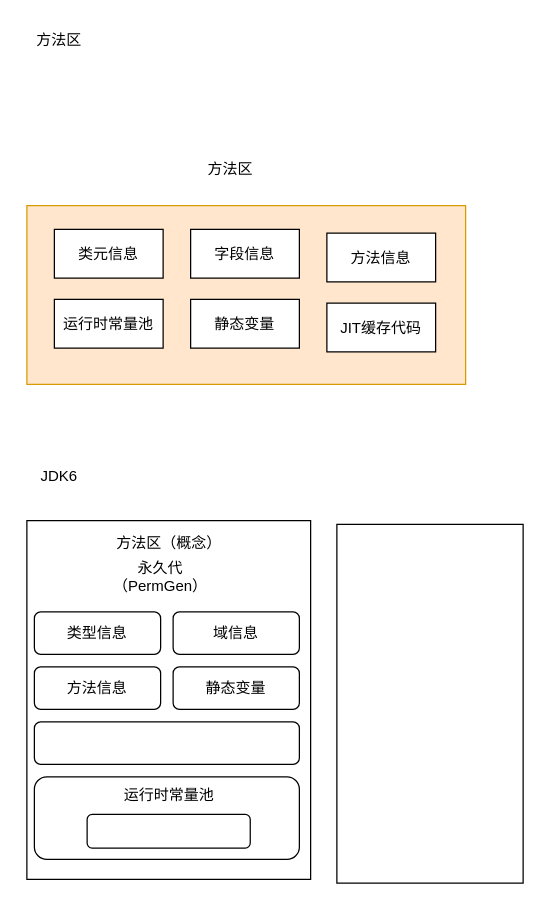
Image size: 545x905. Some labels were removed from this diagram. Each missing label, with the box of its shape:
JIT代码缓存: (33, 721, 299, 764)
StringTable: (86, 813, 250, 848)
堆(Heap): (336, 523, 523, 883)
